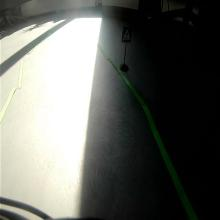crosswalk: (121, 25, 133, 44)
